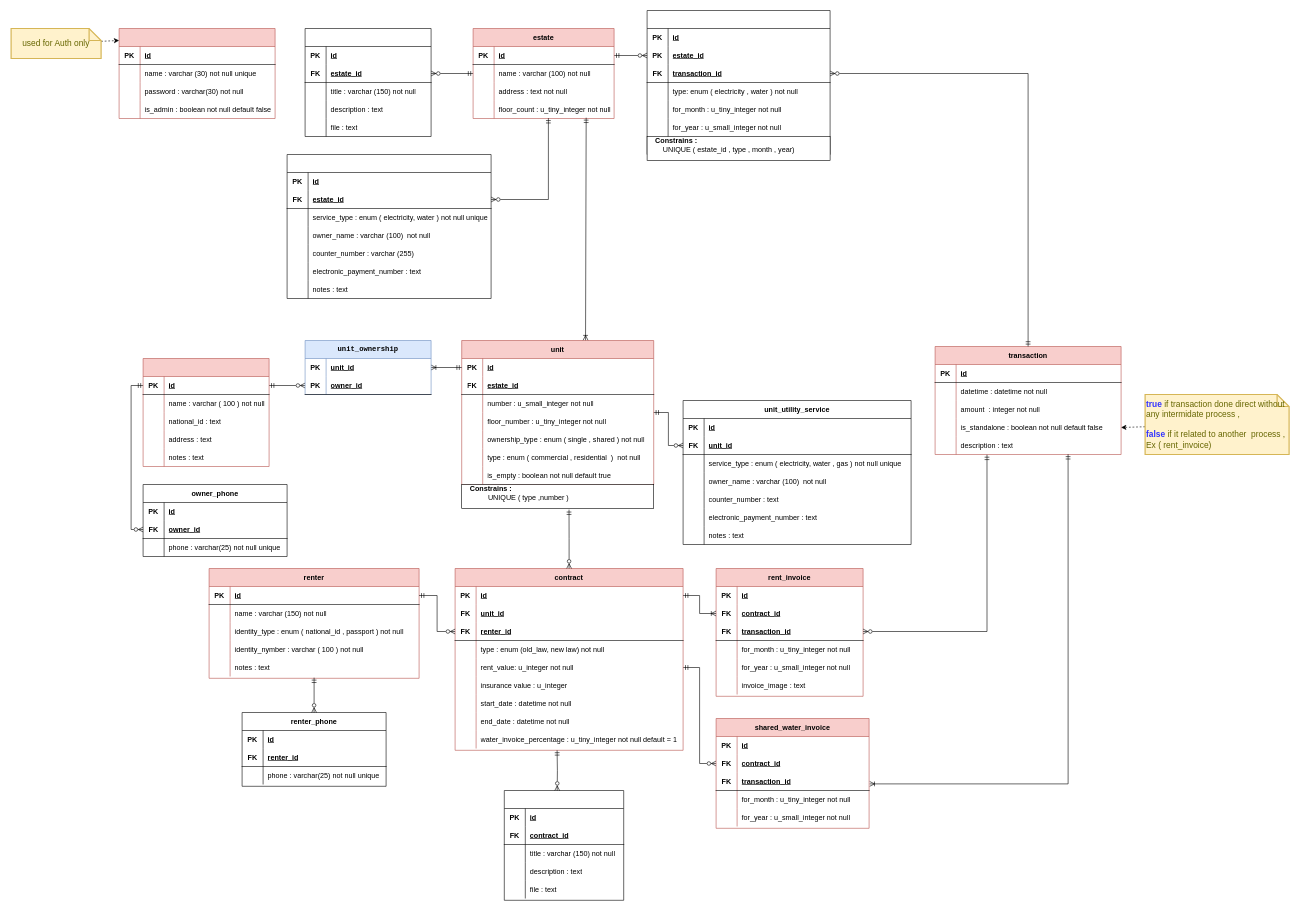
The diagram is 1300 pixels wide and 911 high, and some of its shapes have lost their labels. Each missing label, with the box of its shape:
contract_doccument: (504, 790, 624, 900)
estate_document: (304, 28, 431, 136)
estate_utility_service: (286, 154, 491, 298)
estate_utility_service_invoice: (646, 10, 830, 154)
owner: (142, 358, 269, 466)
user: (118, 28, 275, 118)
